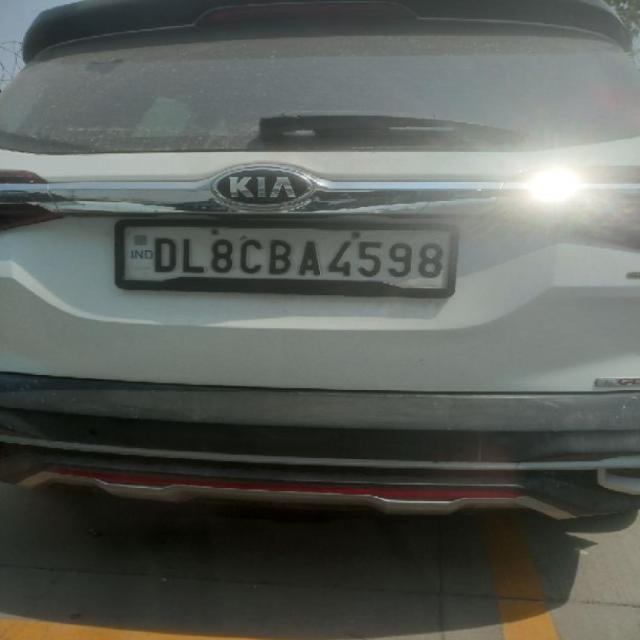license_plate: (113, 218, 459, 298)
